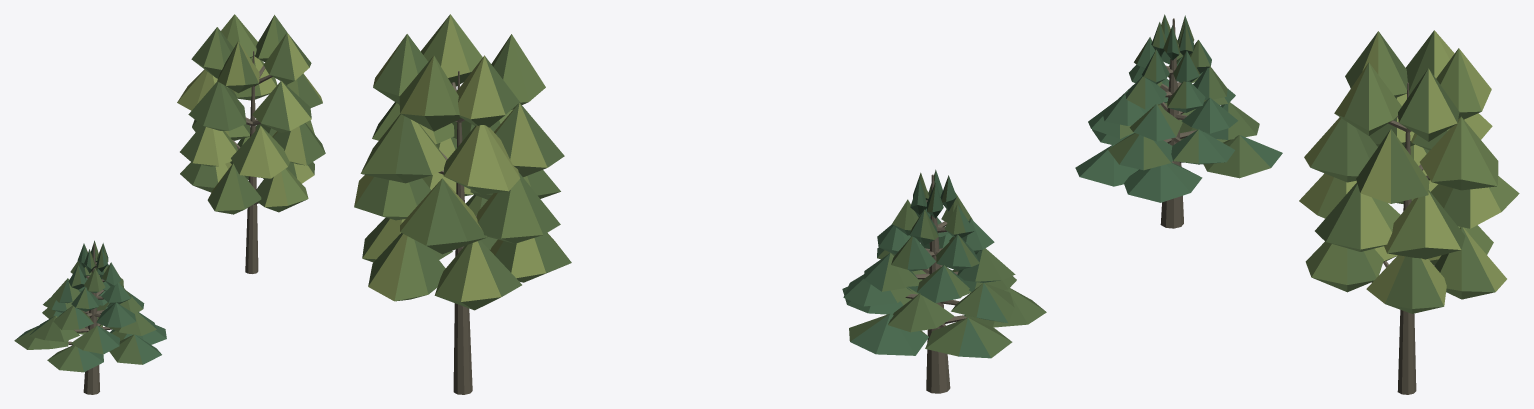
Rendered from TREE7.glb.
3 views of the same model, side by side, from view 1: azimuth 30°, elevation 25°; view 2: azimuth 150°, elevation 25°; view 3: azimuth 270°, elevation 25° (orthographic). The views are drawn at different scales.
Visible parts, largest first — view 1: Fitted street and landscape details; view 2: Fitted street and landscape details; view 3: Fitted street and landscape details.
Boxes of the visible parts, x1,y1,x2,y2 form: Fitted street and landscape details: (14,14,325,394); Fitted street and landscape details: (354,14,1046,394); Fitted street and landscape details: (1075,14,1519,394).
Size of the model in its own units: 12.08 by 7.69 by 9.
